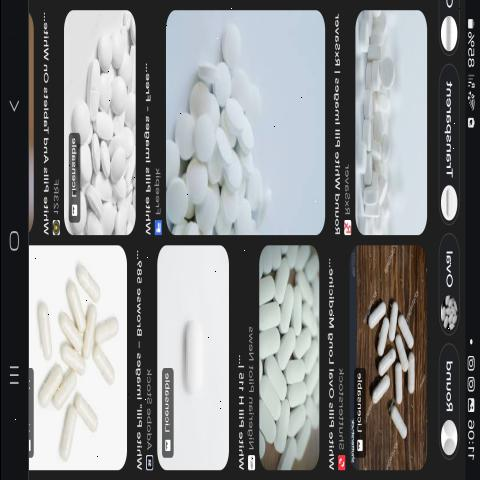Pill: (179, 280, 205, 400), (92, 294, 128, 356), (34, 357, 68, 421), (72, 381, 102, 451), (212, 16, 251, 66), (88, 340, 120, 393), (31, 292, 54, 364), (361, 280, 390, 336), (72, 253, 100, 300), (386, 396, 412, 445), (372, 364, 391, 418), (94, 25, 112, 71)
